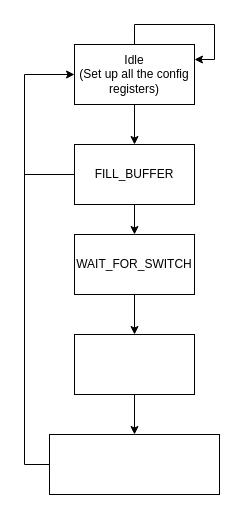
Image size: 240x512. Some labels were removed from this diagram. The box of each missing label's shape, as (x1, y1, x2, y2) in pixels:
LAUNCH_WRITE: (48, 434, 220, 494)
SWITCH_BUFFER: (74, 334, 194, 394)
